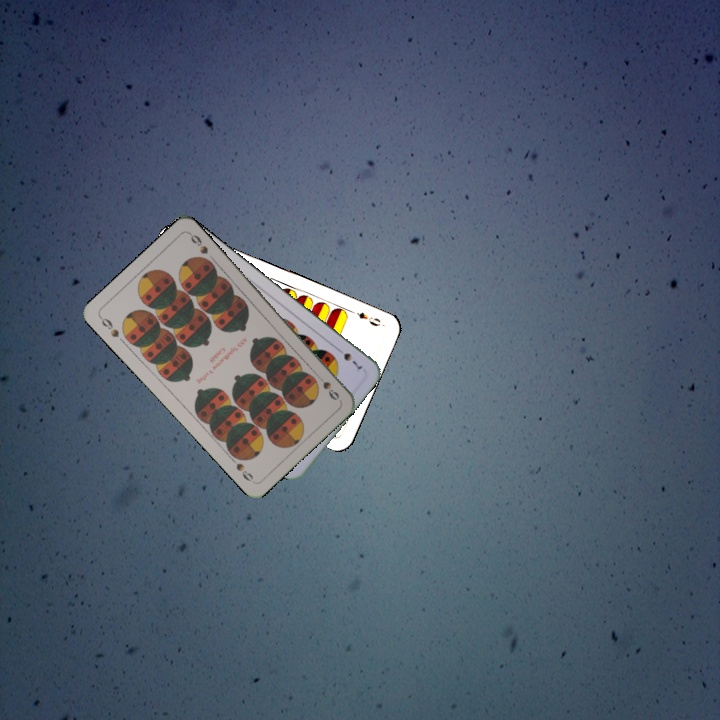E9: (353, 308, 383, 329)
S7: (332, 343, 365, 372)
S9: (311, 369, 342, 403), (96, 312, 122, 340)
